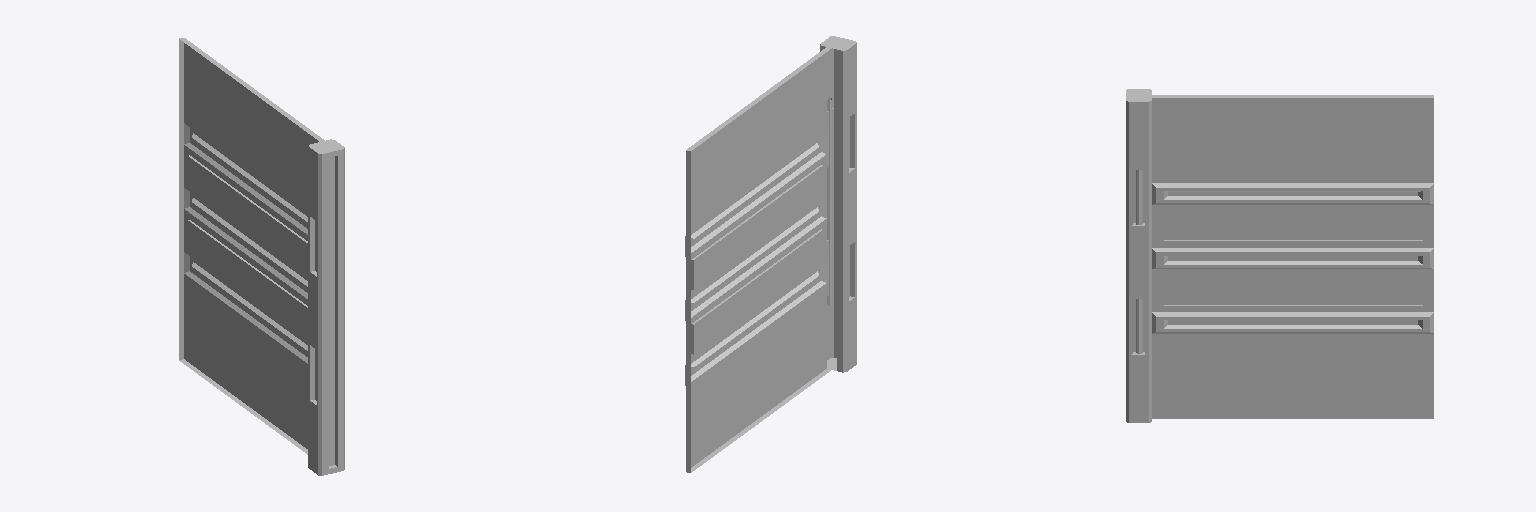
File: Puertader.mtl.obj
3 renders of one model, left to right at view 1: azimuth 30°, elevation 25°; view 2: azimuth 150°, elevation 25°; view 3: azimuth 270°, elevation 25°, orthographic.
Visible parts, largest first — view 1: polySurface540; view 2: polySurface540; view 3: polySurface540.
Part boxes in pixels (x1,y1,x2,y2): polySurface540: (179, 38, 344, 475); polySurface540: (685, 36, 856, 472); polySurface540: (1126, 89, 1433, 422).
Size of the model in its own units: 0.2702 by 3.14 by 2.73.